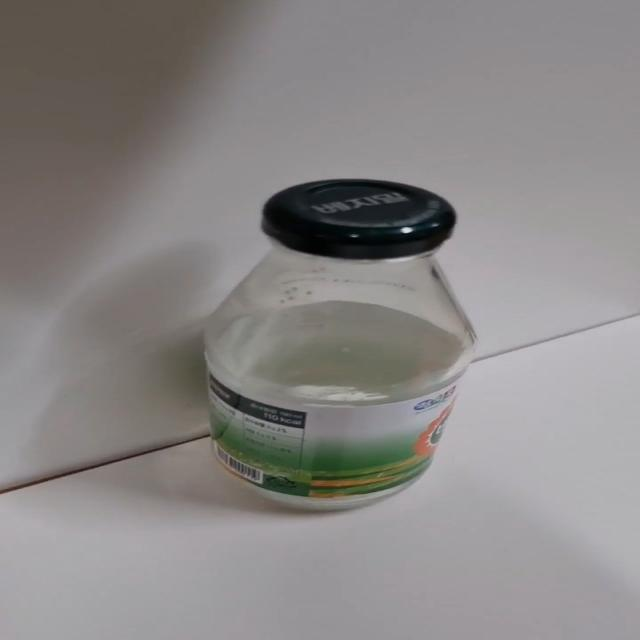Glass: (202, 179, 477, 514)
